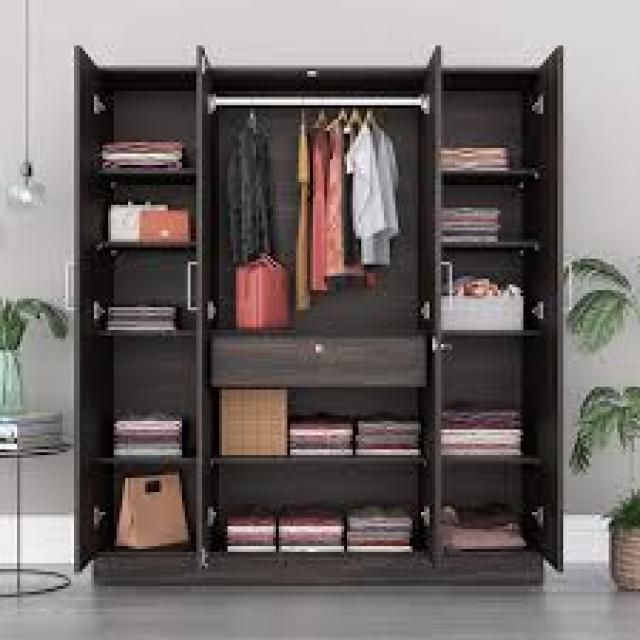dolap: (71, 40, 566, 586)
